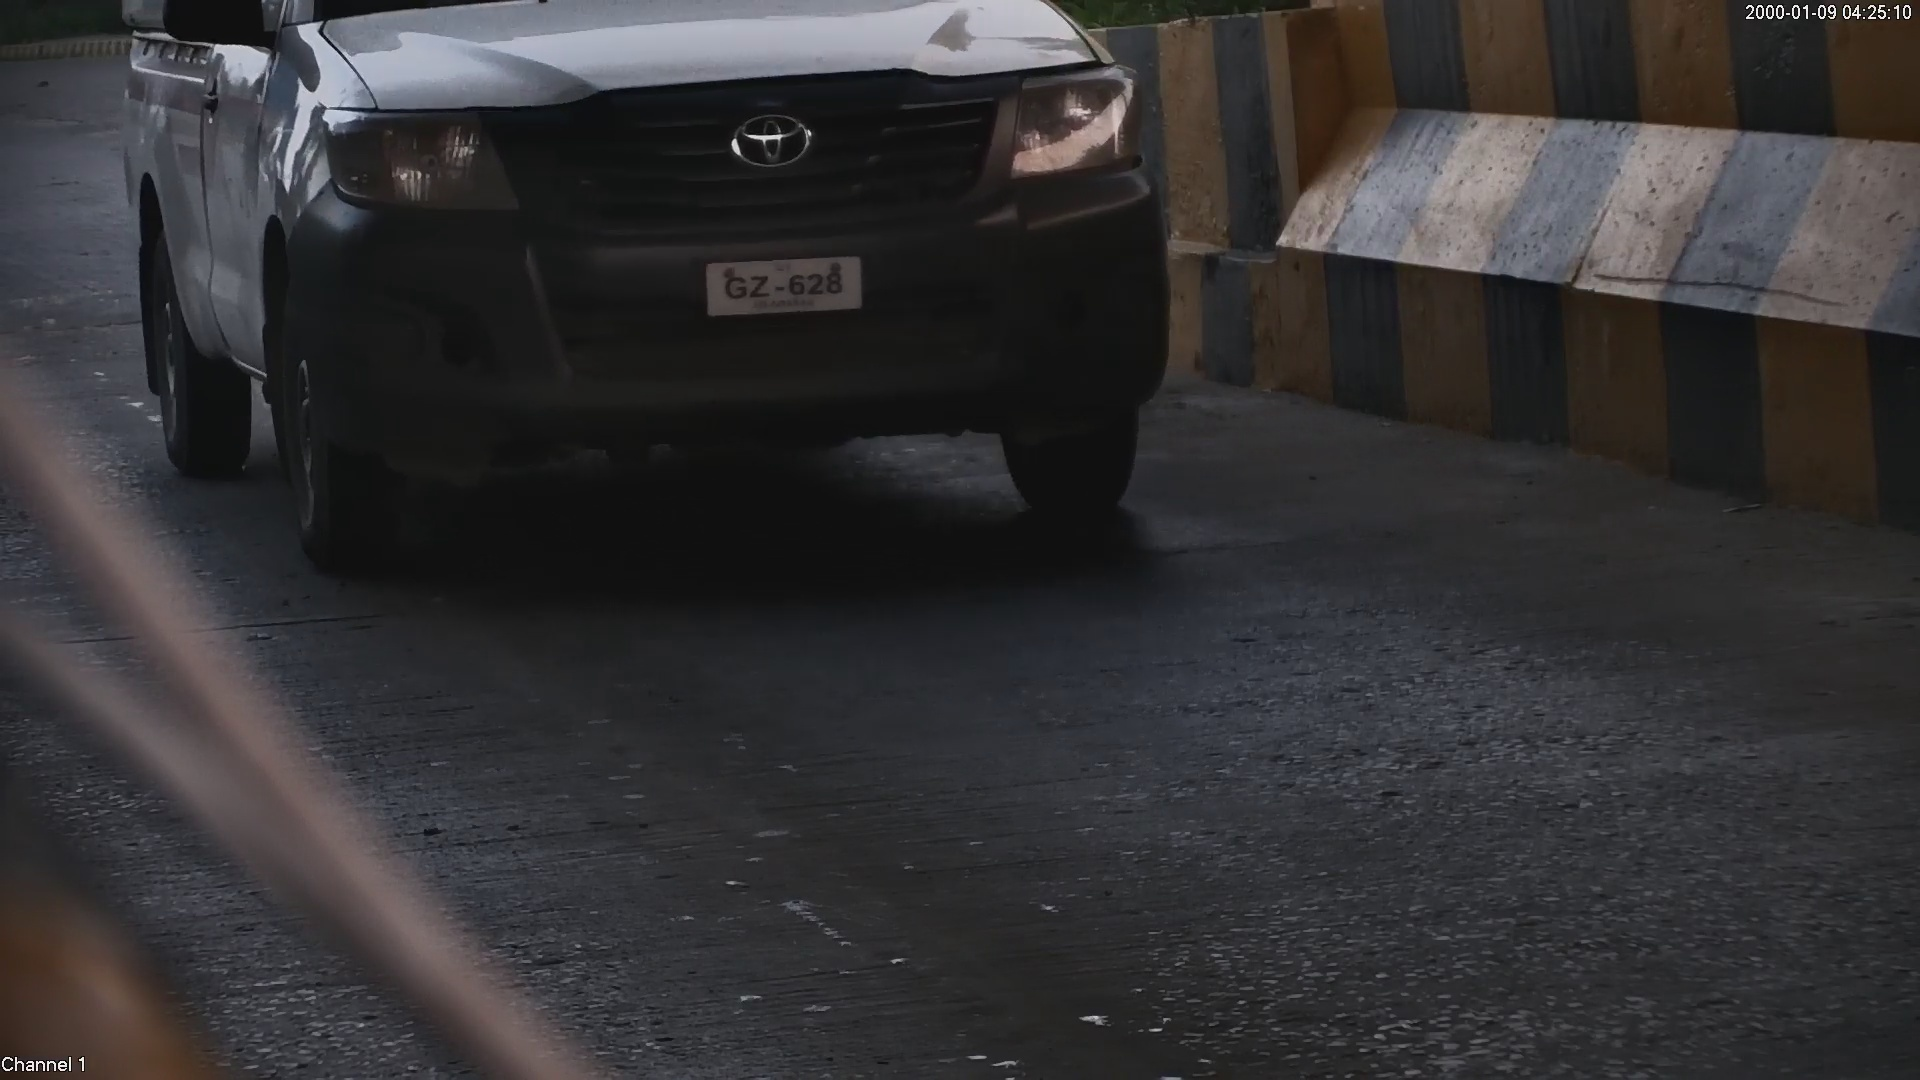Number_Plate: (689, 253, 880, 320)
